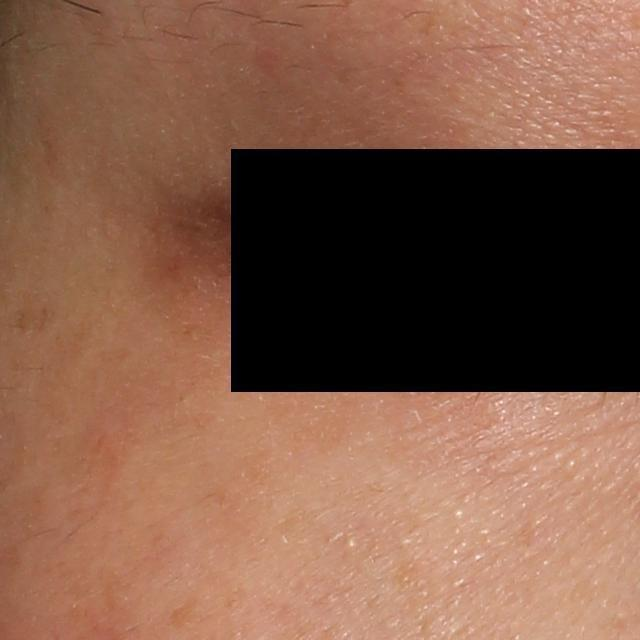comedo: (343, 532, 363, 551)
melasma: (11, 305, 58, 335)
